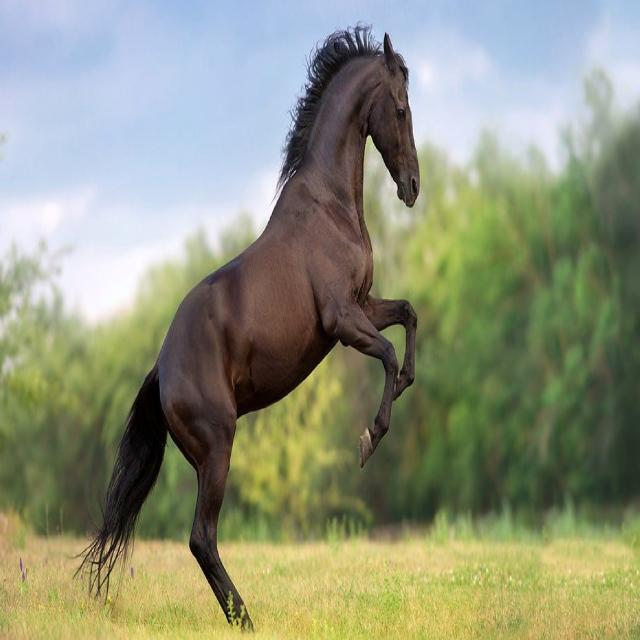horse: (76, 26, 420, 629)
